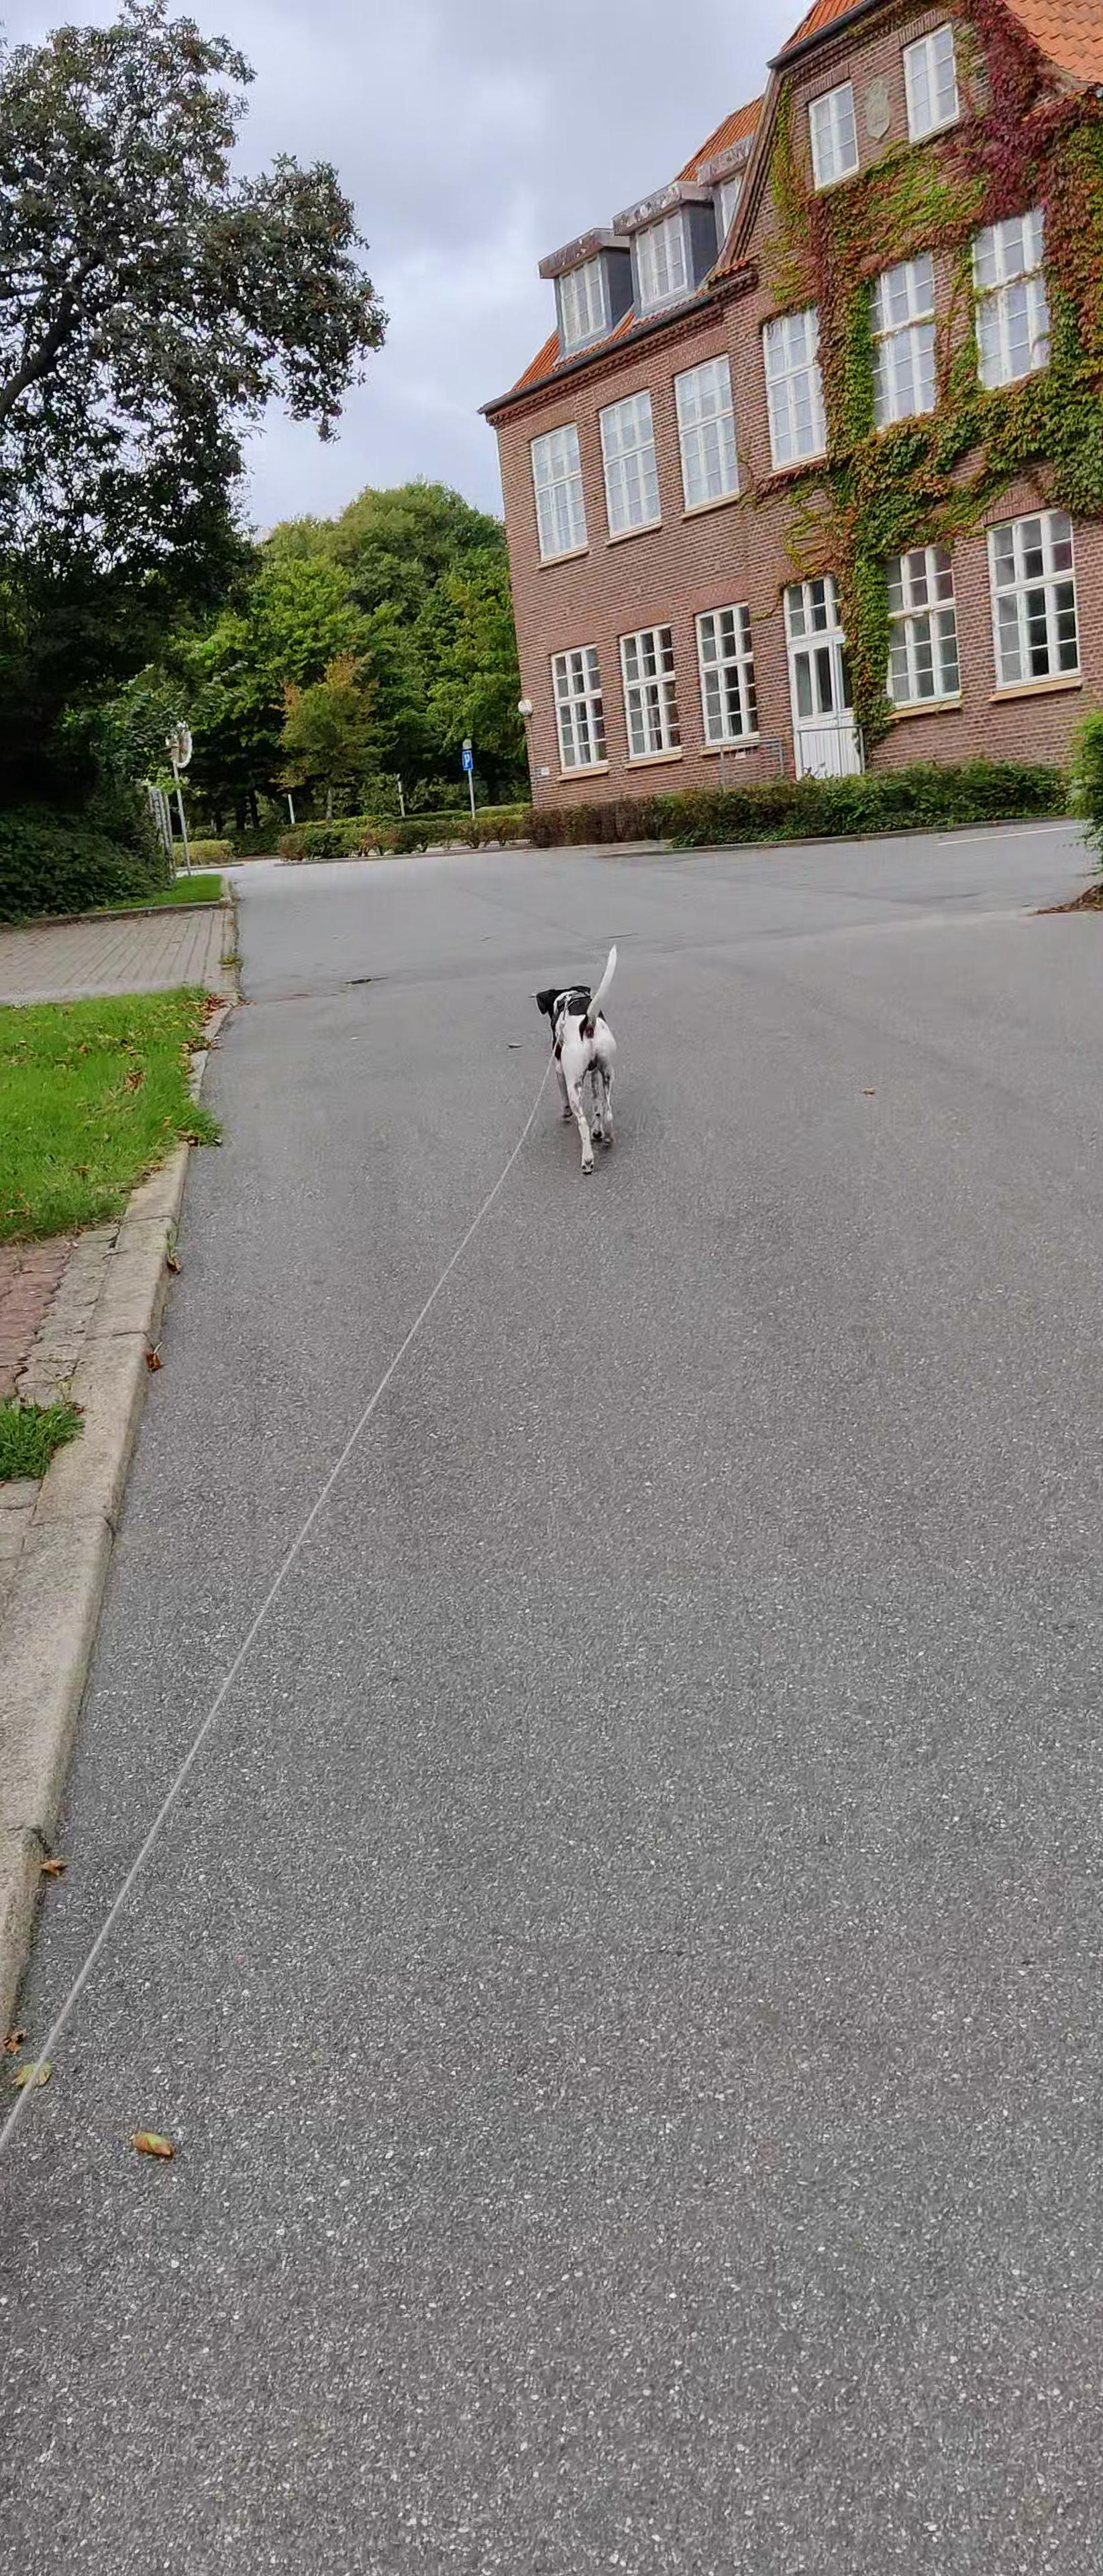Dog: (511, 933, 646, 1184)
